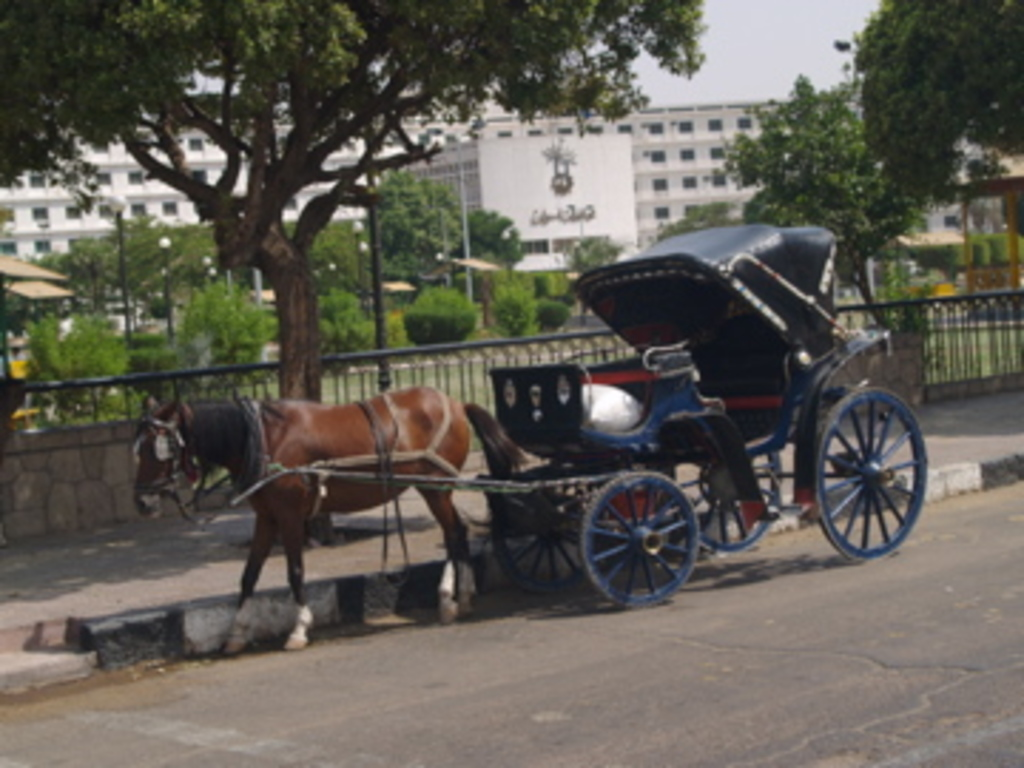horse: (131, 384, 527, 655)
